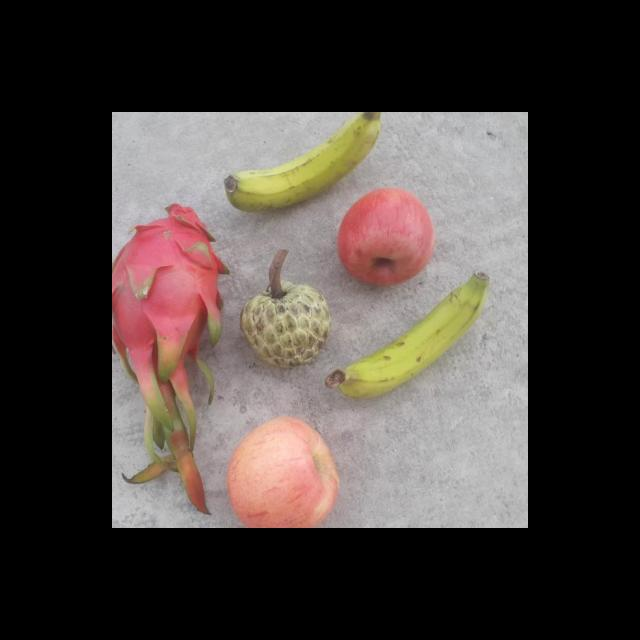Sakya fruit: (242, 278, 334, 370)
apple: (224, 413, 344, 528), (335, 184, 439, 288)
banana: (336, 271, 489, 395), (223, 112, 393, 216)
pitaya: (112, 202, 234, 386)
